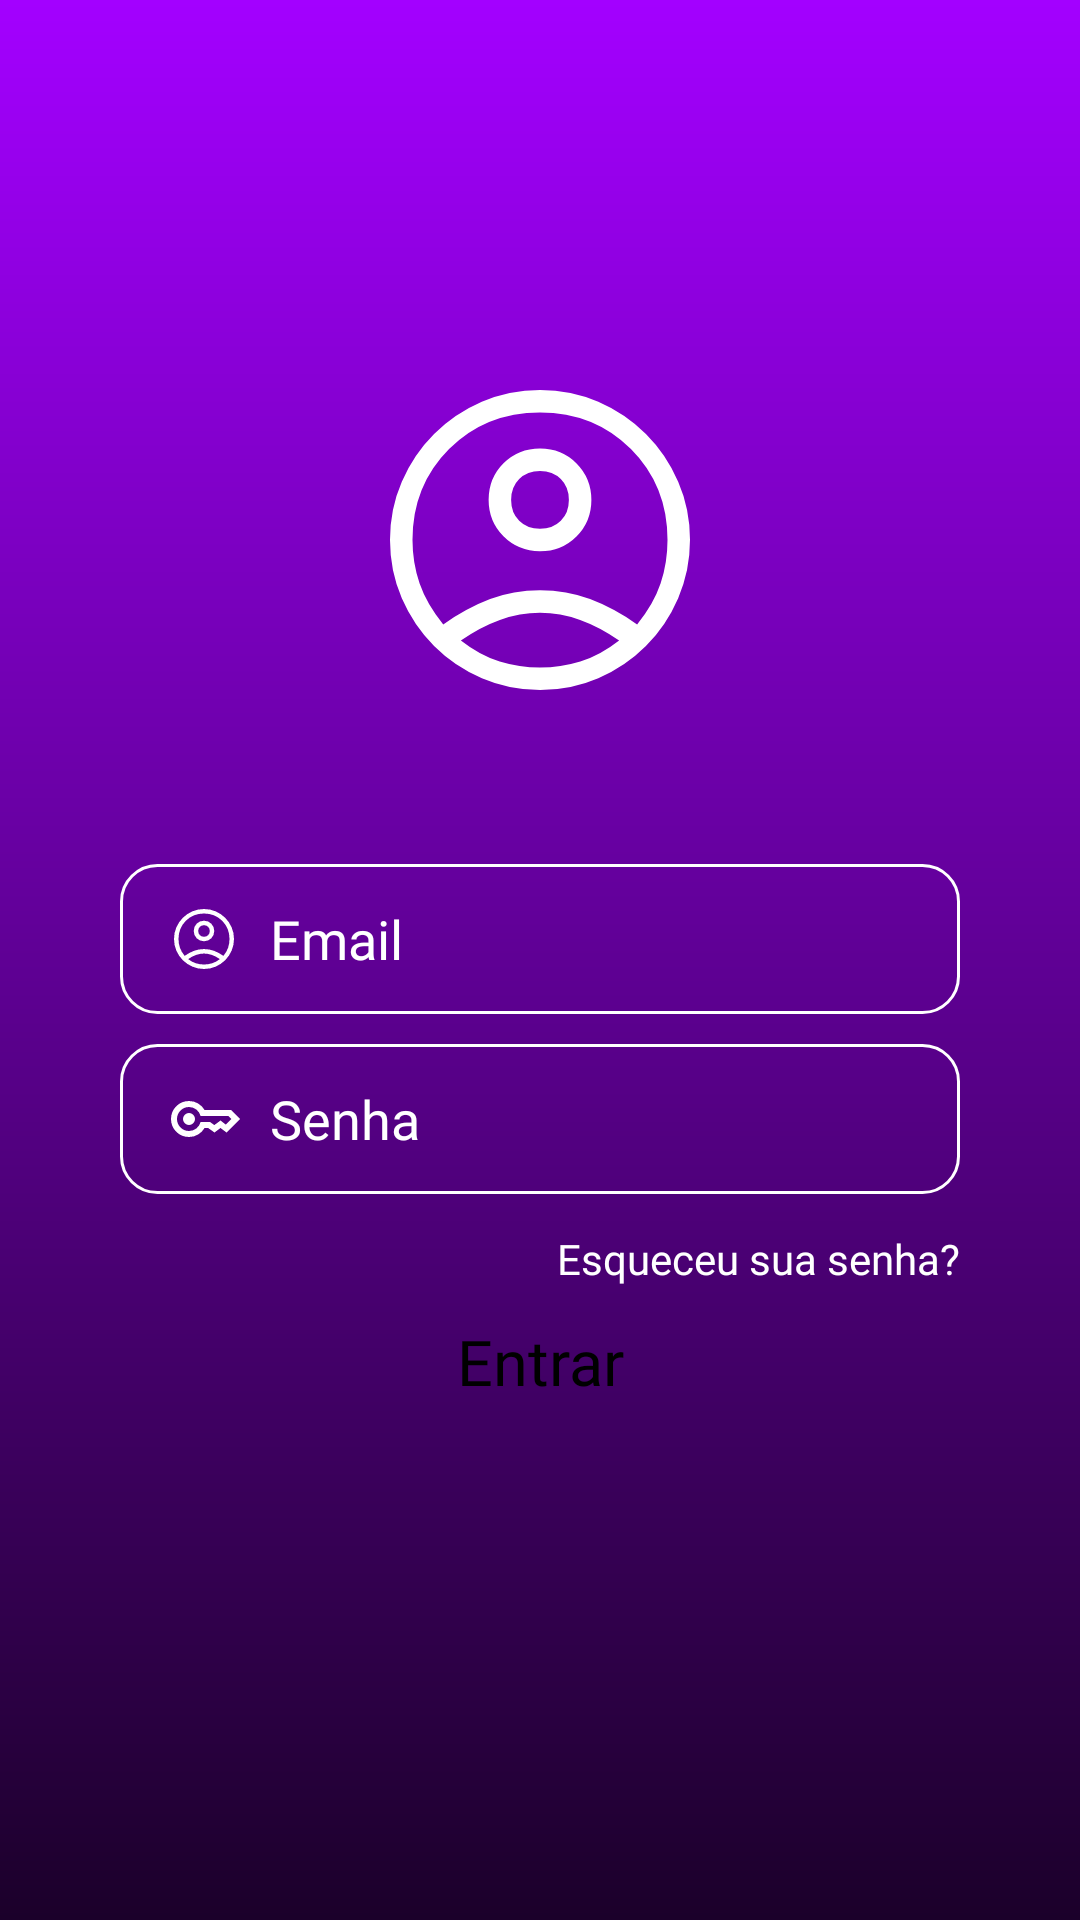

Icons on this 1080px x 1920px Android screen, each with the point to tap as (x,y):
Ícone de perfil do usuário: (540,540)
